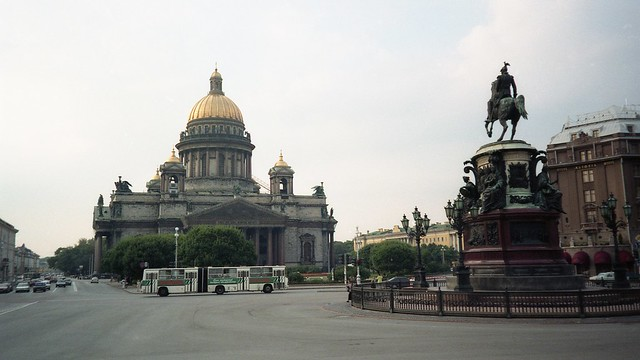bus: (141, 265, 289, 296)
